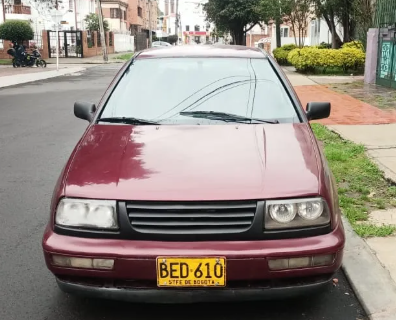placa: (156, 256, 227, 287)
